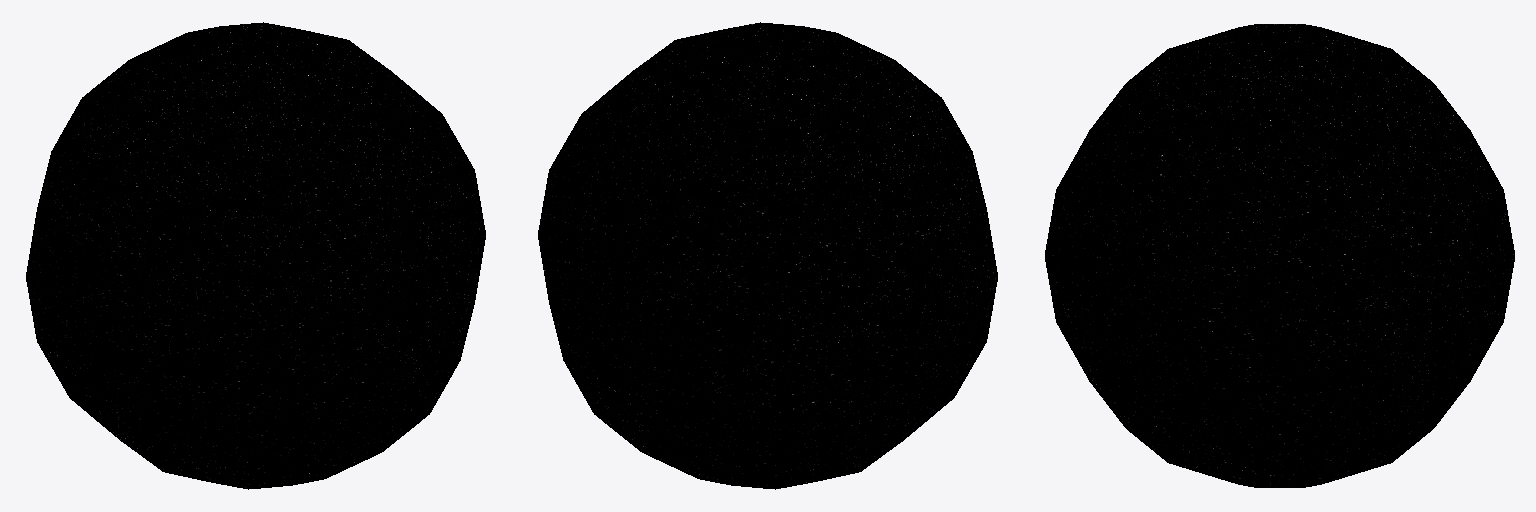
3 views of the same model, side by side, from view 1: azimuth 30°, elevation 25°; view 2: azimuth 150°, elevation 25°; view 3: azimuth 270°, elevation 25° (orthographic).
Parts seen in each view (by area): view 1: BG_BG; view 2: BG_BG; view 3: BG_BG.
Boxes of the visible parts, box(x1,y1,x2,y2) form: BG_BG: box(26, 22, 485, 489); BG_BG: box(538, 22, 997, 489); BG_BG: box(1045, 24, 1514, 487).
Bounding box in the file's own units: 85.6 × 90 × 90.
1 materials, 1 textured.